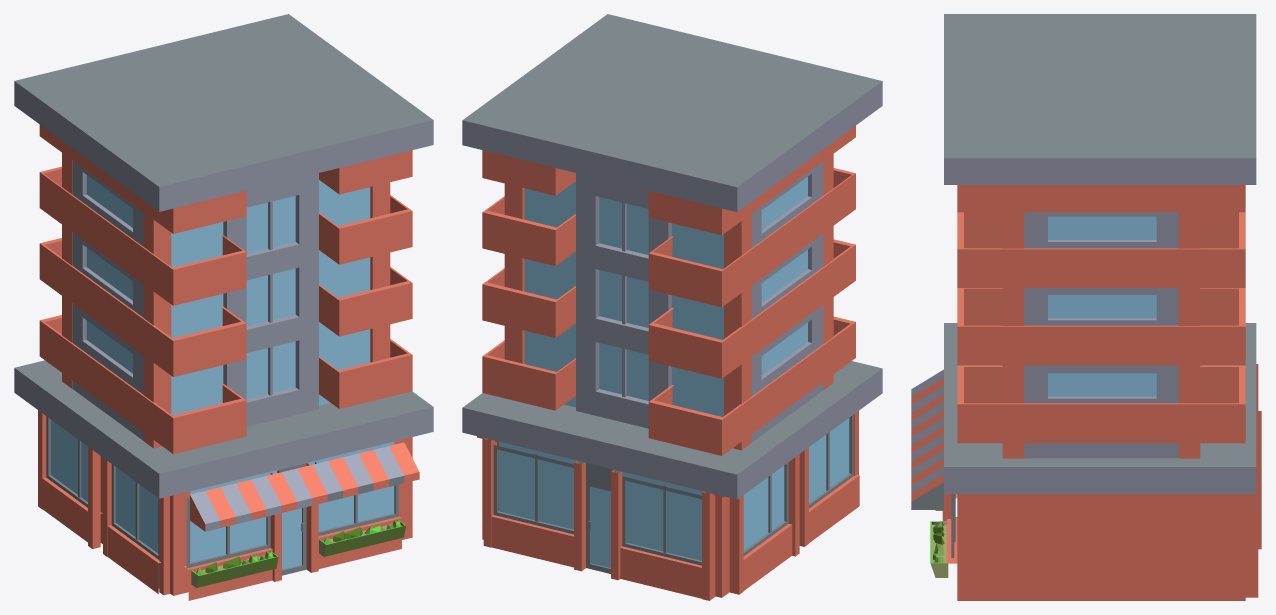
Rendered from putong_zhongxing01.fbx.
3 renders of one model, left to right at view 1: azimuth 30°, elevation 25°; view 2: azimuth 150°, elevation 25°; view 3: azimuth 270°, elevation 25°, orthographic. The views are drawn at different scales.
Parts seen in each view (by area): view 1: putong_zhongxing01000, putong_zhongxing01001, putong_zhongxing01004, putong_zhongxing01003, putong_zhongxing01005, putong_zhongxing01002; view 2: putong_zhongxing01000, putong_zhongxing01001, putong_zhongxing01004, putong_zhongxing01003, putong_zhongxing01005, putong_zhongxing01002; view 3: putong_zhongxing01000, putong_zhongxing01001, putong_zhongxing01004, putong_zhongxing01003, putong_zhongxing01005, putong_zhongxing01002.
Part boxes in pixels (<box>): putong_zhongxing01000: <box>14,360,433,600</box>; putong_zhongxing01001: <box>14,14,433,211</box>; putong_zhongxing01004: <box>39,238,412,401</box>; putong_zhongxing01003: <box>39,166,412,324</box>; putong_zhongxing01005: <box>39,315,412,454</box>; putong_zhongxing01002: <box>39,125,412,253</box>; putong_zhongxing01000: <box>462,361,882,600</box>; putong_zhongxing01001: <box>462,14,882,212</box>; putong_zhongxing01004: <box>482,239,855,403</box>; putong_zhongxing01003: <box>482,168,855,326</box>; putong_zhongxing01005: <box>482,316,855,455</box>; putong_zhongxing01002: <box>482,125,855,255</box>; putong_zhongxing01000: <box>911,323,1261,600</box>; putong_zhongxing01001: <box>944,14,1256,184</box>; putong_zhongxing01004: <box>957,288,1245,403</box>; putong_zhongxing01003: <box>957,212,1245,325</box>; putong_zhongxing01005: <box>957,288,1245,458</box>; putong_zhongxing01002: <box>957,185,1245,248</box>.
Size of the model in its own units: 4.73 by 6.96 by 4.86.
